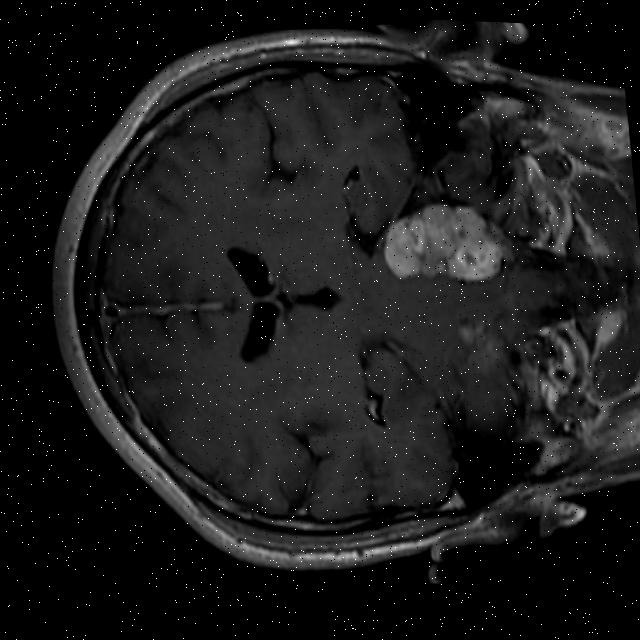Meningioma: (375, 191, 508, 290)
